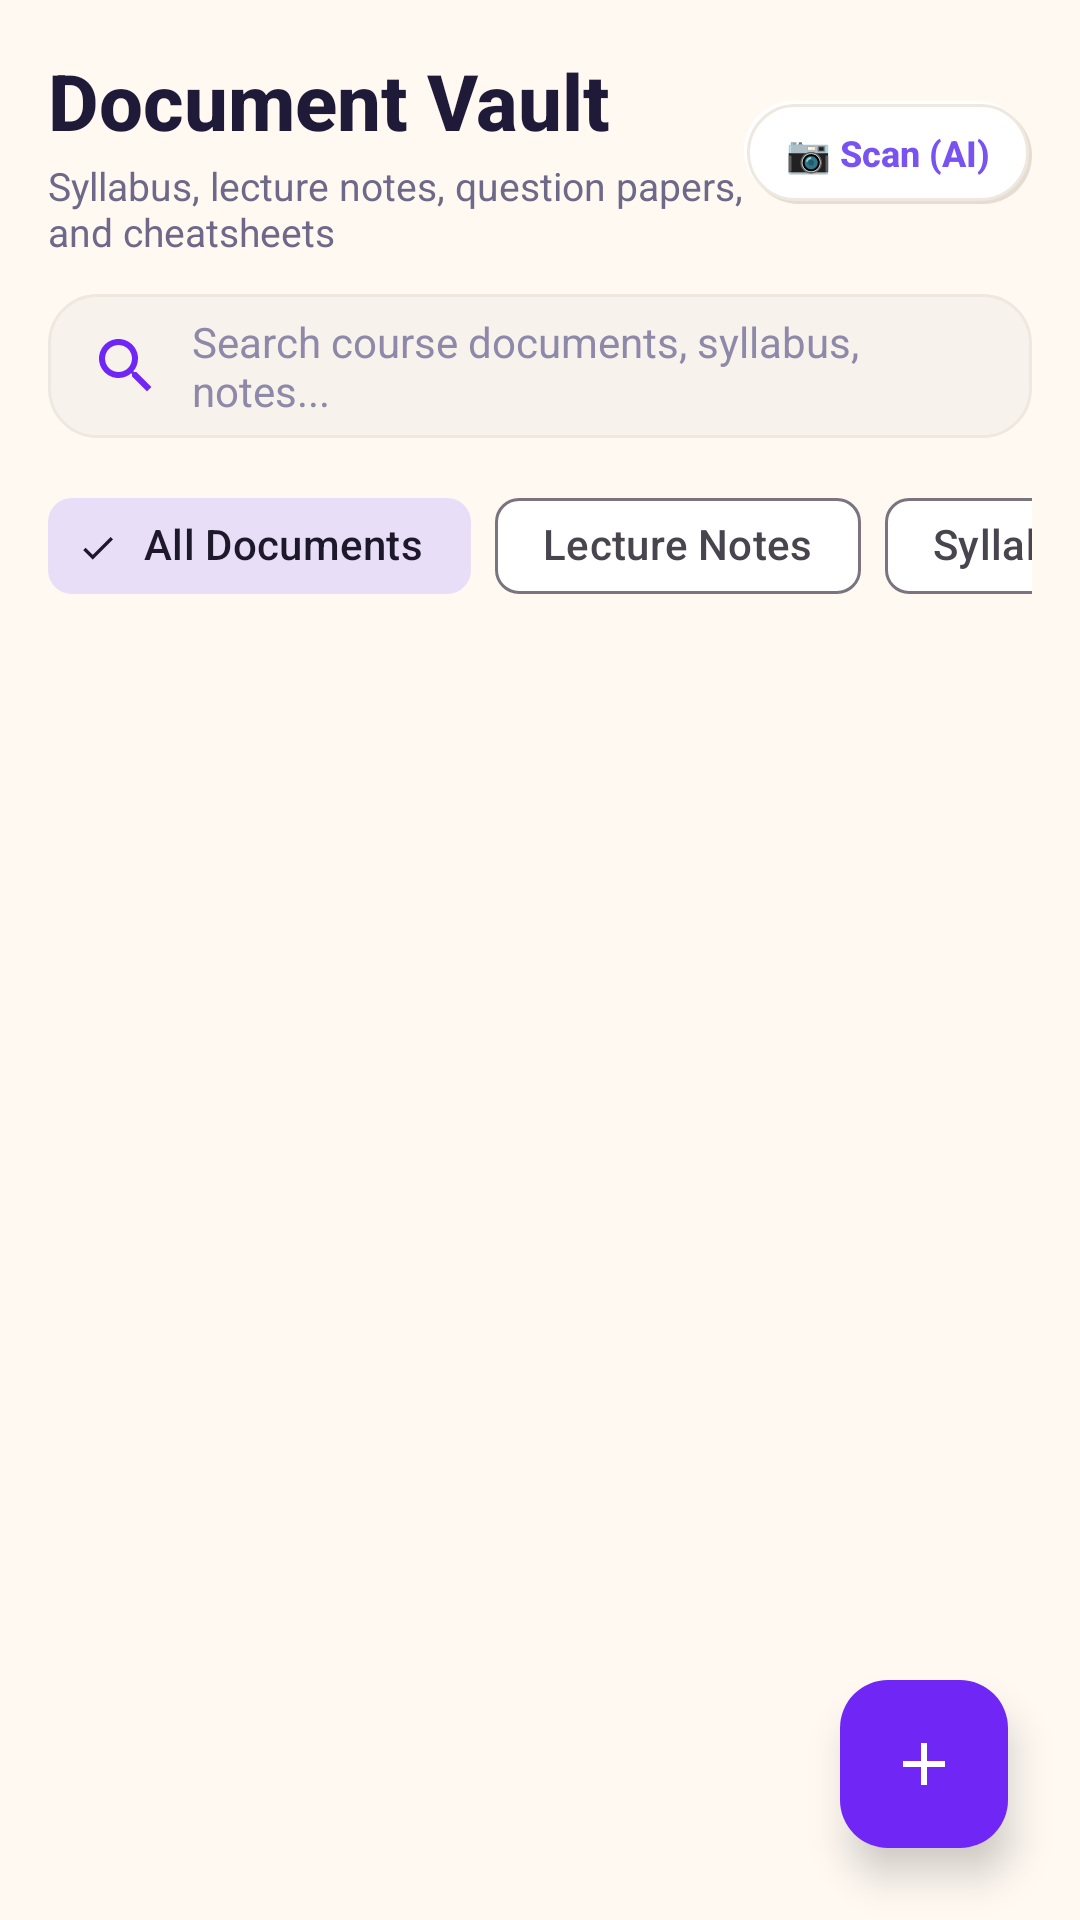

Icons on this 1080 x 1920 Android screen, each with the point to tap as [x,y]:
Add Document: [924,1764]
